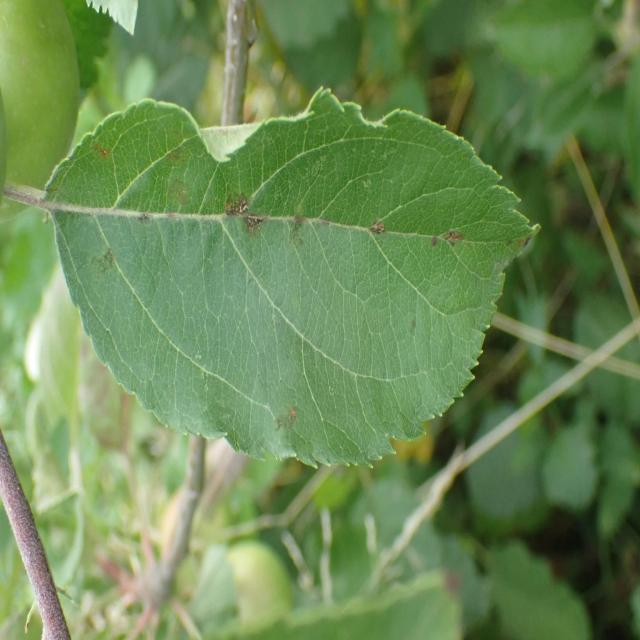scab: (70, 94, 544, 443)
